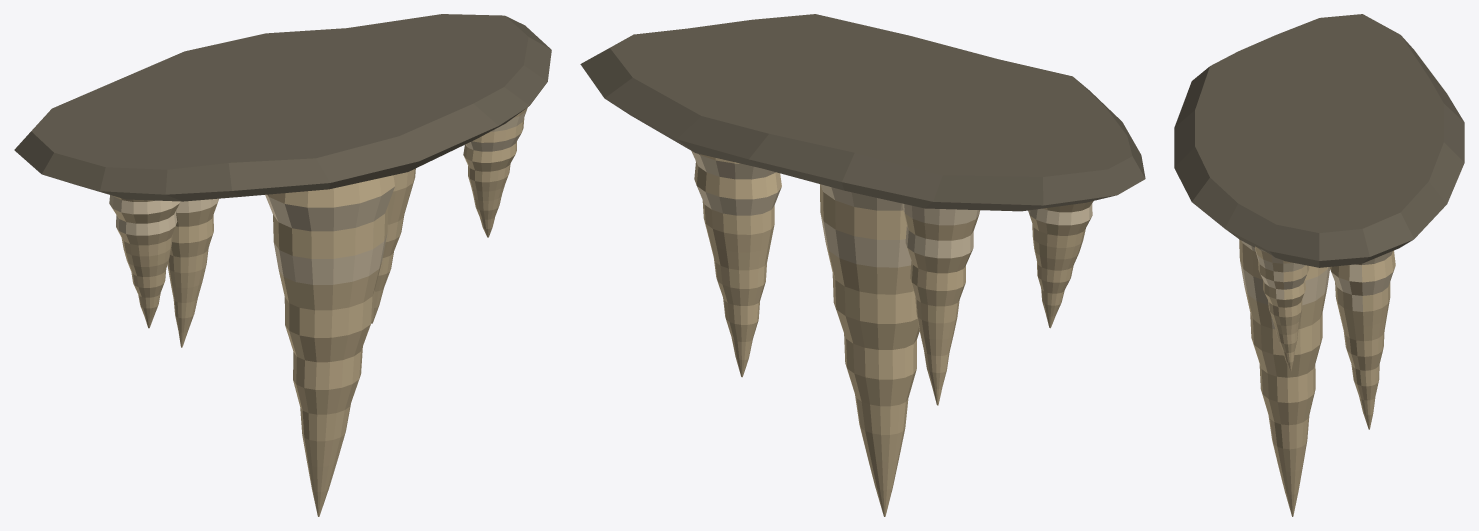
File: stalactite-group.glb
The picture shows the model from 3 angles, left to right: view 1: azimuth 30°, elevation 25°; view 2: azimuth 150°, elevation 25°; view 3: azimuth 270°, elevation 25°; orthographic projection. The views are drawn at different scales.
Visible parts, largest first — view 1: rough-ceiling-attachment, rooted-pendant-02, rooted-pendant-00, rooted-pendant-01, rooted-pendant-04, rooted-pendant-03; view 2: rough-ceiling-attachment, rooted-pendant-02, rooted-pendant-03, rooted-pendant-01, rooted-pendant-00; view 3: rough-ceiling-attachment, rooted-pendant-02, rooted-pendant-03, rooted-pendant-04.
Part boxes in pixels (bbox=[...]): rough-ceiling-attachment: bbox=[14, 14, 551, 201]; rooted-pendant-02: bbox=[265, 174, 398, 516]; rooted-pendant-00: bbox=[109, 195, 180, 328]; rooted-pendant-01: bbox=[167, 198, 218, 347]; rooted-pendant-04: bbox=[463, 107, 527, 237]; rooted-pendant-03: bbox=[371, 168, 415, 323]; rough-ceiling-attachment: bbox=[580, 14, 1145, 211]; rooted-pendant-02: bbox=[820, 184, 919, 516]; rooted-pendant-03: bbox=[691, 151, 781, 377]; rooted-pendant-01: bbox=[902, 203, 979, 405]; rooted-pendant-00: bbox=[1028, 201, 1093, 328]; rough-ceiling-attachment: bbox=[1174, 14, 1464, 267]; rooted-pendant-02: bbox=[1239, 239, 1329, 516]; rooted-pendant-03: bbox=[1329, 250, 1395, 429]; rooted-pendant-04: bbox=[1255, 246, 1309, 371].
Size of the model in its own units: 2.86 by 2.24 by 1.52.
